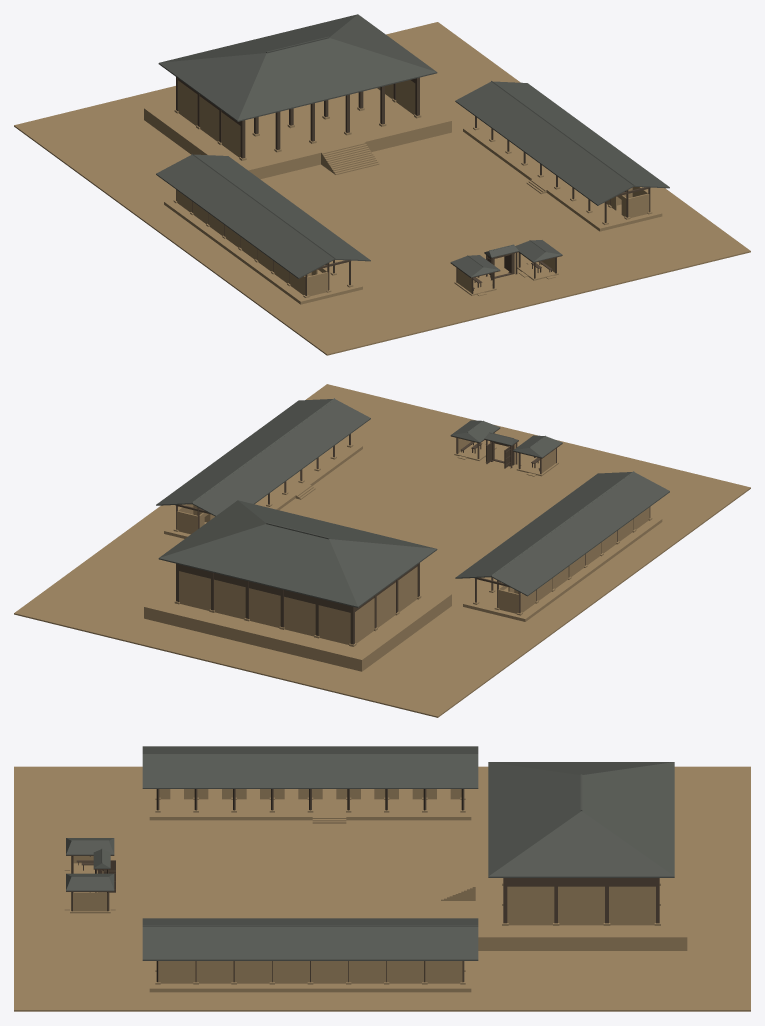
The model's file is palace-admission-court-open-LOD2.glb.
3 renders of one model, top to bottom at view 1: azimuth 30°, elevation 25°; view 2: azimuth 150°, elevation 25°; view 3: azimuth 270°, elevation 25°, orthographic. The views are drawn at different scales.
Parts seen in each view (by area): view 1: new_court_support_C, hall__deyang-A-static_tile, hall__deyang-A-static_earth, west_gallery__sidehall-A-static_tile, east_gallery__sidehall-A-static_tile, east_gallery__sidehall-A-static_earth, west_gallery__sidehall-A-static_earth, guard__guard-slice-ground-earth, hall__deyang-A-static_timber, guard__guard-slice-west-tile, guard__guard-slice-east-tile, guard__guard-slice-west-earth; view 2: new_court_support_C, hall__deyang-A-static_tile, hall__deyang-A-static_earth, west_gallery__sidehall-A-static_tile, east_gallery__sidehall-A-static_tile, west_gallery__sidehall-A-static_earth, guard__guard-slice-ground-earth, east_gallery__sidehall-A-static_earth, hall__deyang-A-static_timber, guard__guard-slice-west-tile, guard__guard-slice-east-tile, guard__guard-slice-west-earth; view 3: new_court_support_C, hall__deyang-A-static_tile, hall__deyang-A-static_earth, west_gallery__sidehall-A-static_tile, east_gallery__sidehall-A-static_tile, east_gallery__sidehall-A-static_earth, west_gallery__sidehall-A-static_earth, guard__guard-slice-ground-earth, hall__deyang-A-static_timber, guard__guard-slice-east-tile, guard__guard-slice-east-earth, guard__guard-slice-west-tile (+1 smaller).
Part boxes in pixels (x1,y1,x2,y2): new_court_support_C: [14, 22, 750, 355]; hall__deyang-A-static_tile: [158, 14, 437, 121]; hall__deyang-A-static_earth: [144, 80, 451, 179]; west_gallery__sidehall-A-static_tile: [156, 153, 370, 278]; east_gallery__sidehall-A-static_tile: [455, 81, 669, 205]; east_gallery__sidehall-A-static_earth: [463, 123, 662, 231]; west_gallery__sidehall-A-static_earth: [164, 190, 362, 304]; guard__guard-slice-ground-earth: [419, 252, 593, 312]; hall__deyang-A-static_timber: [176, 77, 419, 158]; guard__guard-slice-west-tile: [450, 255, 500, 277]; guard__guard-slice-east-tile: [515, 240, 562, 262]; guard__guard-slice-west-earth: [454, 268, 496, 296]; new_court_support_C: [14, 384, 750, 717]; hall__deyang-A-static_tile: [158, 500, 437, 607]; hall__deyang-A-static_earth: [144, 566, 451, 671]; west_gallery__sidehall-A-static_tile: [455, 471, 669, 596]; east_gallery__sidehall-A-static_tile: [156, 398, 370, 516]; west_gallery__sidehall-A-static_earth: [463, 507, 662, 621]; guard__guard-slice-ground-earth: [419, 432, 593, 492]; east_gallery__sidehall-A-static_earth: [164, 441, 362, 538]; hall__deyang-A-static_timber: [176, 563, 419, 644]; guard__guard-slice-west-tile: [513, 435, 562, 457]; guard__guard-slice-east-tile: [450, 420, 500, 442]; guard__guard-slice-west-earth: [516, 449, 558, 476]; new_court_support_C: [14, 766, 750, 1011]; hall__deyang-A-static_tile: [488, 762, 674, 877]; hall__deyang-A-static_earth: [441, 812, 687, 950]; west_gallery__sidehall-A-static_tile: [142, 746, 478, 788]; east_gallery__sidehall-A-static_tile: [142, 918, 478, 960]; east_gallery__sidehall-A-static_earth: [149, 961, 471, 992]; west_gallery__sidehall-A-static_earth: [149, 789, 471, 823]; guard__guard-slice-ground-earth: [31, 852, 149, 924]; hall__deyang-A-static_timber: [503, 878, 659, 923]; guard__guard-slice-east-tile: [66, 873, 114, 891]; guard__guard-slice-east-earth: [64, 892, 115, 913]; guard__guard-slice-west-tile: [66, 838, 114, 855].
Size of the model in its own units: 68 by 12.74 by 87.
